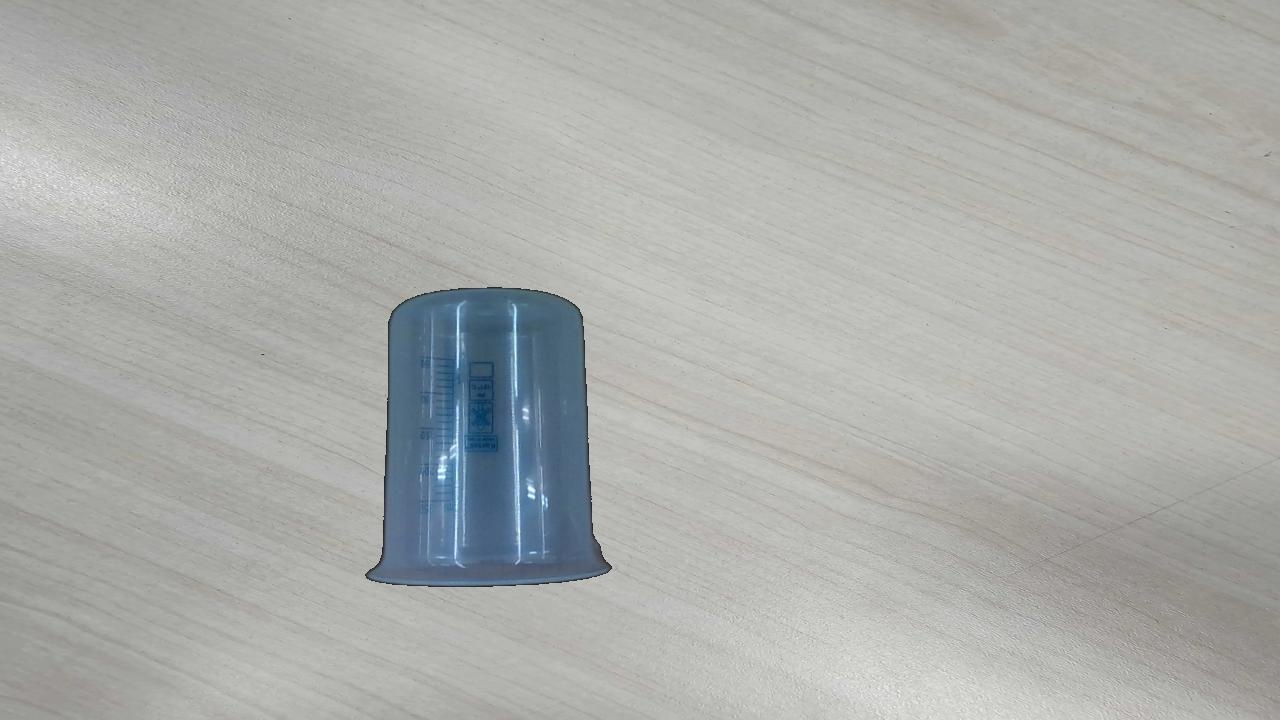cup: (370, 287, 611, 587)
